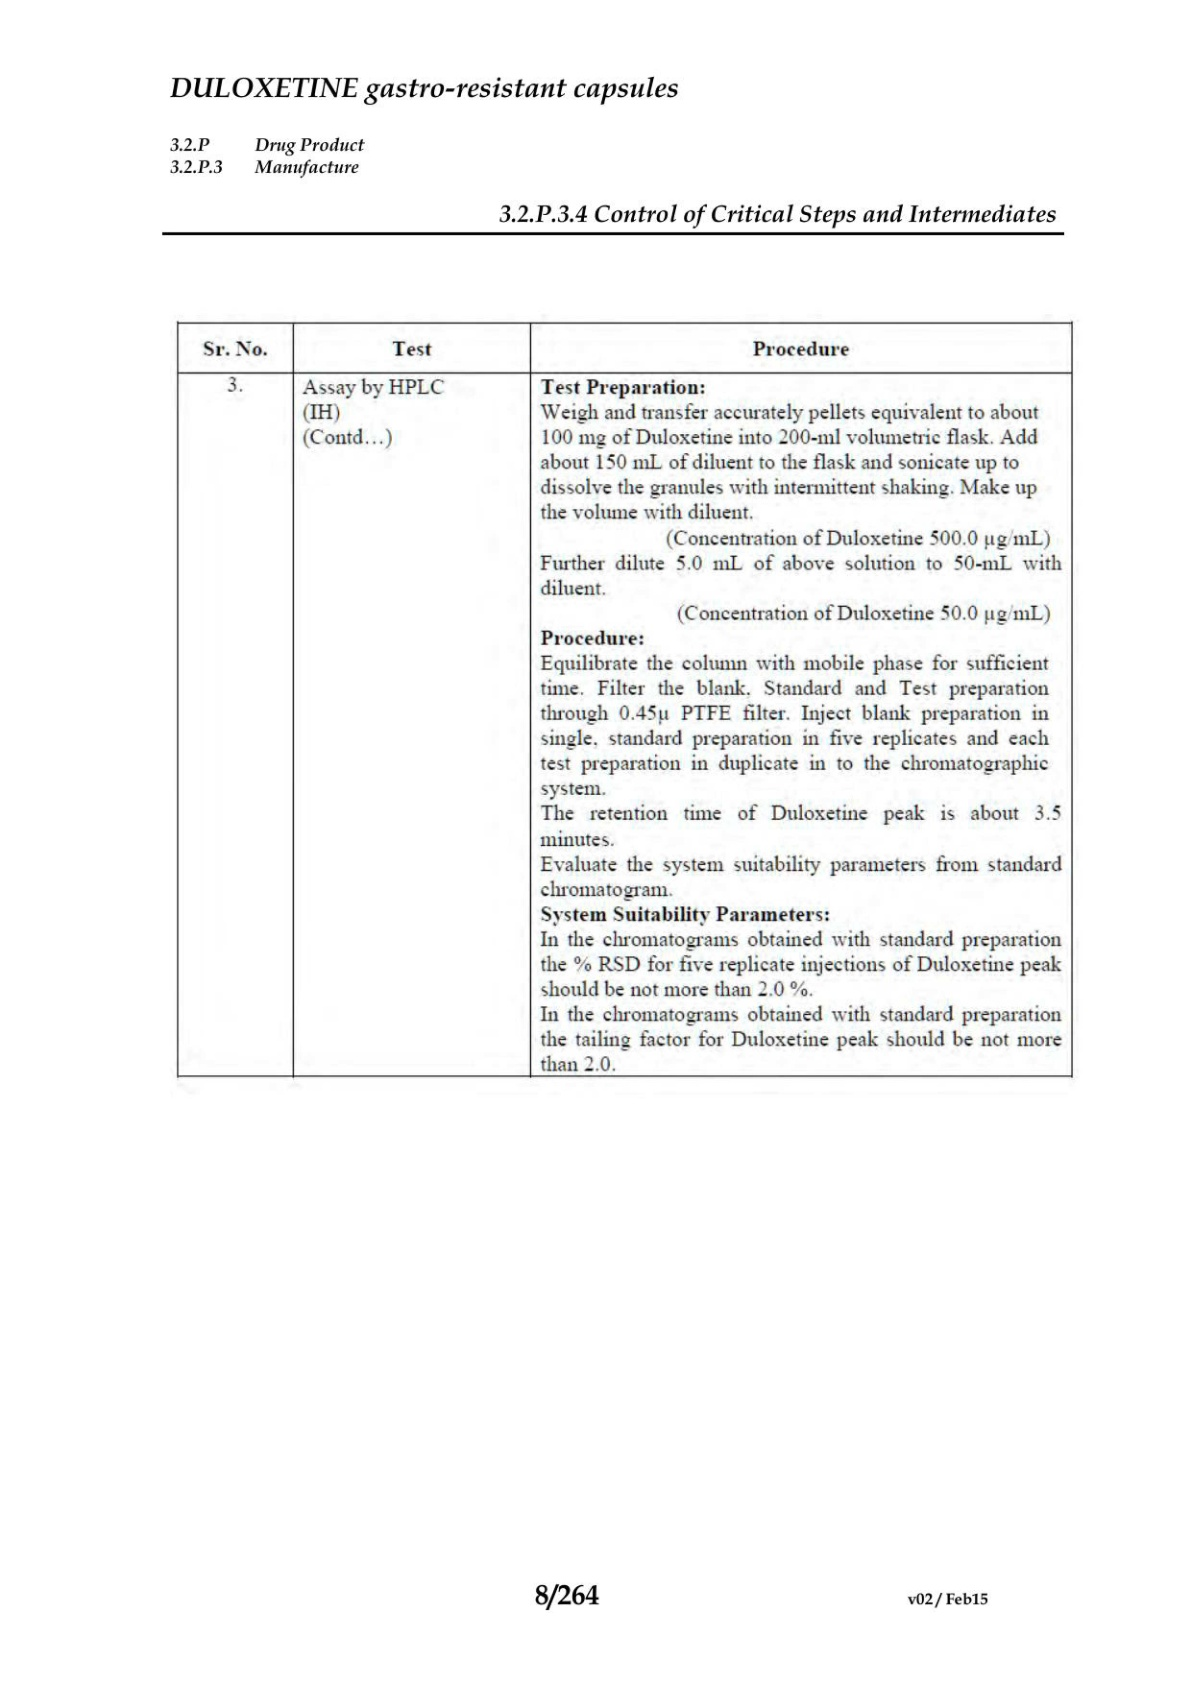full_lined: (175, 321, 1073, 1077)
